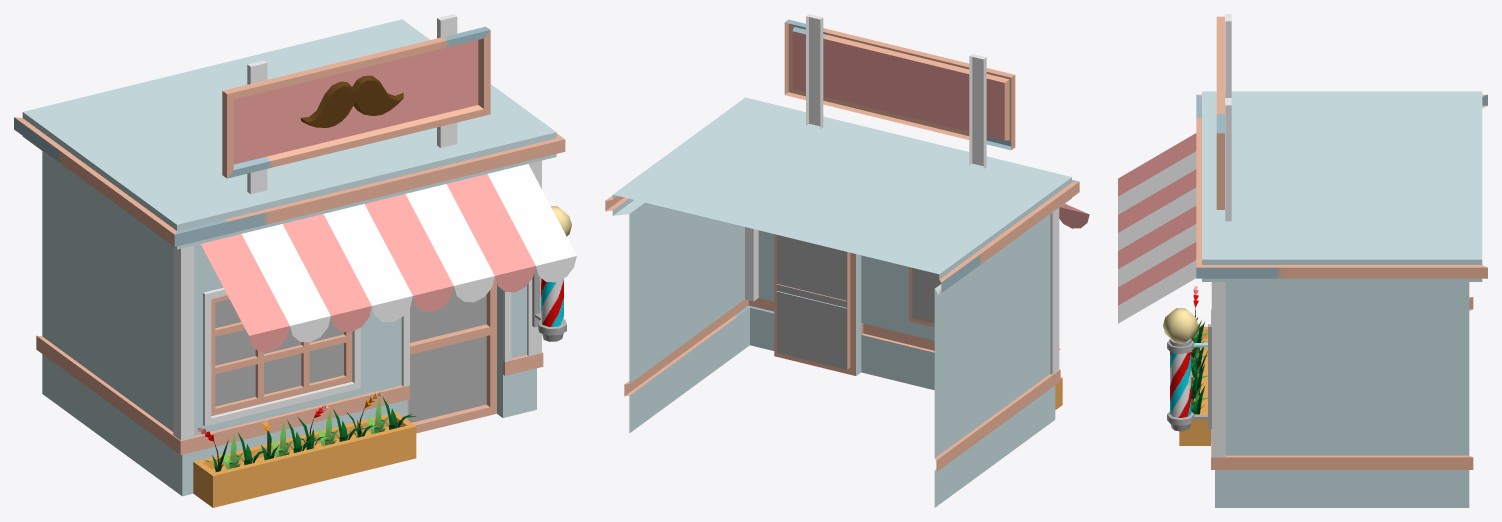
The model's file is salon.fbx.
The picture shows the model from 3 angles, left to right: view 1: azimuth 30°, elevation 25°; view 2: azimuth 150°, elevation 25°; view 3: azimuth 270°, elevation 25°; orthographic projection. The views are drawn at different scales.
Parts seen in each view (by area): view 1: salon; view 2: salon; view 3: salon.
Boxes of the visible parts, <box> form: salon: <box>14,14,576,507</box>; salon: <box>605,14,1089,507</box>; salon: <box>1118,14,1487,507</box>.
Bounding box in the file's own units: 509 × 507 × 460.
1 material, 1 textured.
